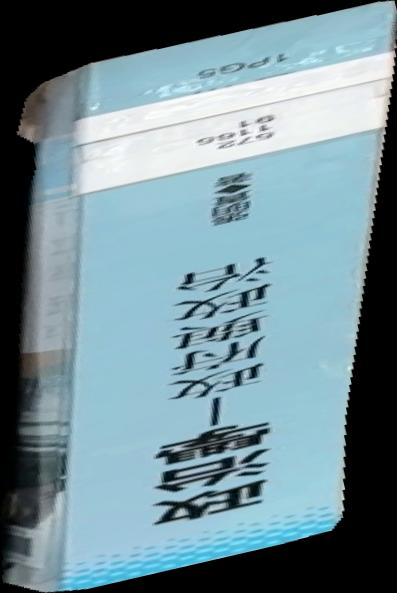reverse: (1, 1, 397, 593)
